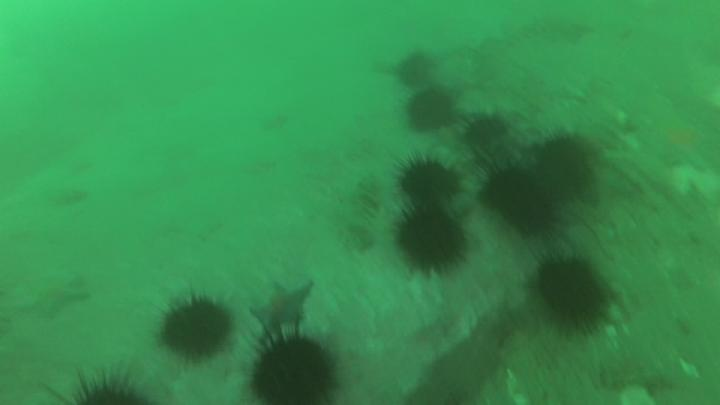echinus: (253, 340, 333, 405), (482, 170, 554, 236), (397, 204, 465, 273), (161, 297, 230, 359), (540, 260, 602, 325), (537, 133, 588, 183), (401, 160, 458, 202), (408, 91, 455, 132), (396, 52, 430, 87), (462, 117, 508, 141)
holothurian: (338, 172, 380, 247)
starfish: (247, 283, 315, 332), (654, 118, 713, 173), (25, 271, 90, 315)
